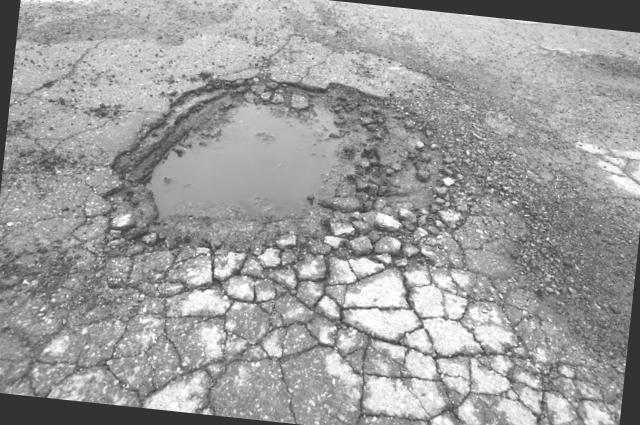Pothole: (62, 39, 442, 304)
